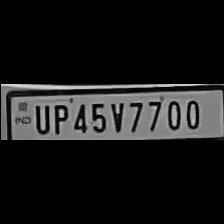0: (162, 97, 182, 131), (182, 96, 202, 130)
4: (69, 100, 87, 134)
5: (86, 99, 108, 133)
7: (124, 99, 144, 134), (143, 98, 161, 132)
P: (48, 101, 68, 135)
U: (31, 102, 50, 134)
V: (109, 98, 126, 134)
